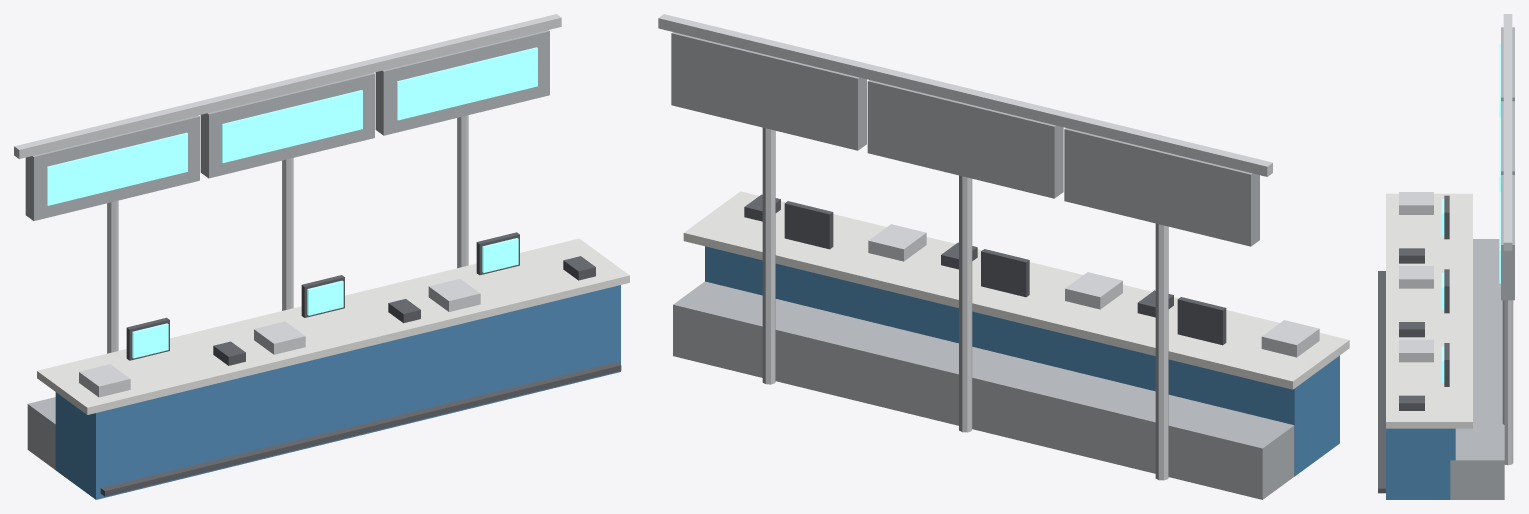
The model's file is ferry-terminal-and-harbour-crossing-ferry-terminal-and-f6740c7d__35652.glb.
The picture shows the model from 3 angles, left to right: view 1: azimuth 30°, elevation 25°; view 2: azimuth 150°, elevation 25°; view 3: azimuth 270°, elevation 25°; orthographic projection. The views are drawn at different scales.
Parts seen in each view (by area): view 1: ferry-terminal-and-harbour-crossing-check-in-desk-run; view 2: ferry-terminal-and-harbour-crossing-check-in-desk-run; view 3: ferry-terminal-and-harbour-crossing-check-in-desk-run.
Boxes of the visible parts, bbox=[...] form: ferry-terminal-and-harbour-crossing-check-in-desk-run: bbox=[14, 14, 629, 499]; ferry-terminal-and-harbour-crossing-check-in-desk-run: bbox=[658, 14, 1349, 499]; ferry-terminal-and-harbour-crossing-check-in-desk-run: bbox=[1378, 14, 1514, 499].
Size of the model in its own units: 6.2 by 3.3 by 1.57.
